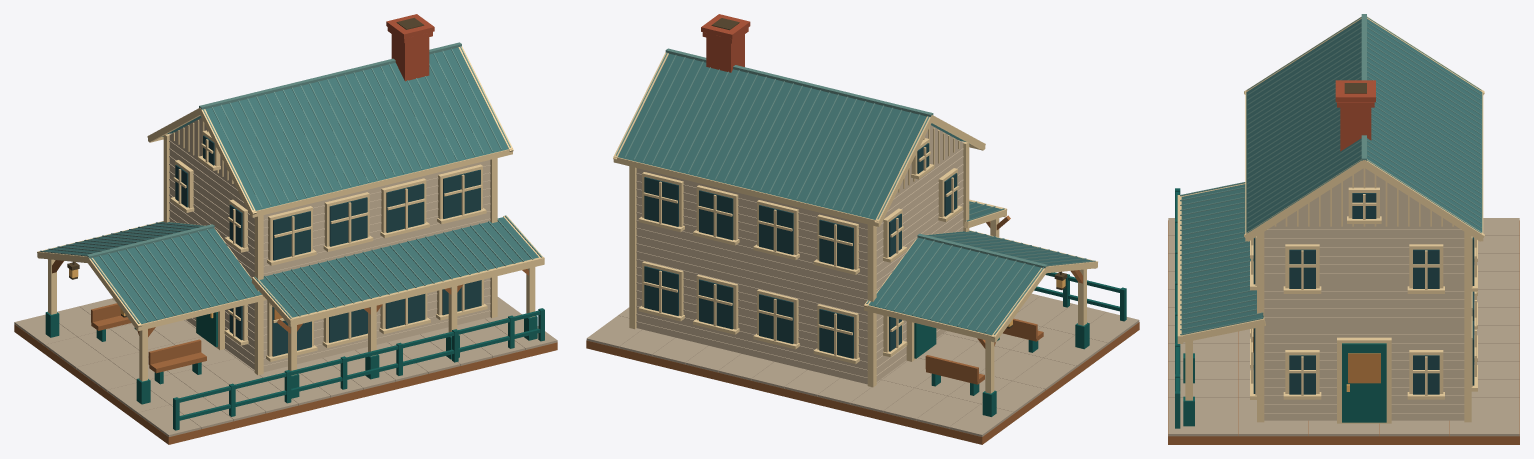
File: waterfront_depot.glb
3 views of the same model, side by side, from view 1: azimuth 30°, elevation 25°; view 2: azimuth 150°, elevation 25°; view 3: azimuth 270°, elevation 25° (orthographic). The views are drawn at different scales.
Visible parts, largest first — view 1: Waterfront Depot; view 2: Waterfront Depot; view 3: Waterfront Depot.
Part boxes in pixels (x1,y1,x2,y2): Waterfront Depot: (14,14,557,444); Waterfront Depot: (586,14,1139,444); Waterfront Depot: (1168,14,1519,444).
Size of the model in its own units: 13.8 by 9.56 by 9.5.
